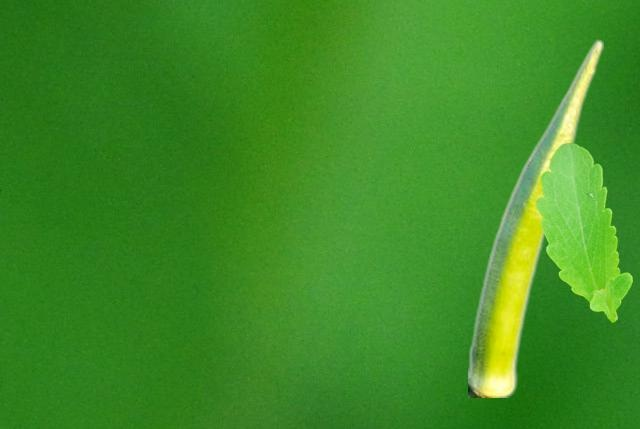okra: (468, 38, 602, 396)
